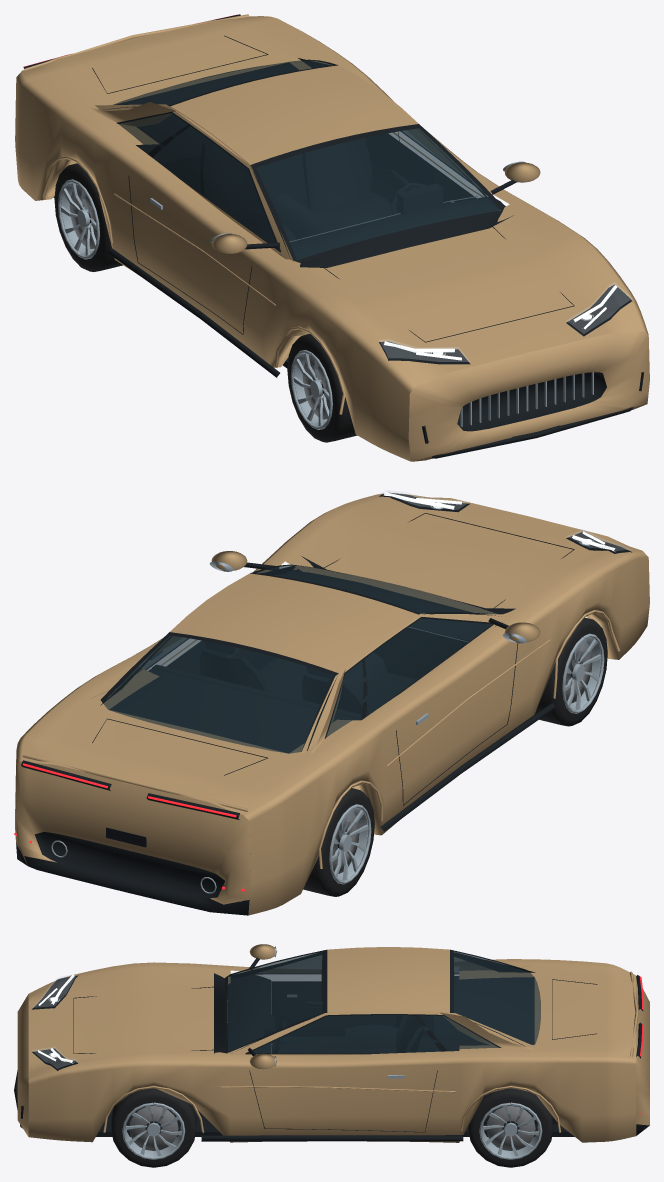
File: nova-lod1.glb
3 renders of one model, top to bottom at view 1: azimuth 30°, elevation 25°; view 2: azimuth 150°, elevation 25°; view 3: azimuth 270°, elevation 25°, orthographic. The views are drawn at different scales.
Parts seen in each view (by area): view 1: sculpted-coachwork_merged, carbon-rear-valance_merged, panoramic-windscreen_merged, profiled-tire (×2), rim-barrel_merged (×2), headlamp-clear-lens_merged, door-release_merged, headlamp-projector-optic_merged; view 2: sculpted-coachwork_merged, carbon-rear-valance_merged, panoramic-windscreen_merged, profiled-tire (×2), rim-barrel_merged (×2), ventilated-brake-rotor (×2), headlamp-clear-lens_merged, headlamp-projector-optic_merged, door-release_merged; view 3: sculpted-coachwork_merged, carbon-rear-valance_merged, panoramic-windscreen_merged, profiled-tire (×2), rim-barrel_merged (×2), ventilated-brake-rotor (×2), headlamp-clear-lens_merged, headlamp-projector-optic_merged.
Part boxes in pixels (x1,y1,x2,y2): sculpted-coachwork_merged: [15, 14, 649, 461]; carbon-rear-valance_merged: [23, 14, 644, 458]; panoramic-windscreen_merged: [113, 60, 500, 259]; profiled-tire (×2): [54, 163, 357, 442]; rim-barrel_merged (×2): [58, 179, 332, 429]; headlamp-clear-lens_merged: [379, 282, 631, 361]; door-release_merged: [150, 161, 594, 426]; headlamp-projector-optic_merged: [384, 285, 617, 360]; sculpted-coachwork_merged: [15, 493, 649, 915]; carbon-rear-valance_merged: [16, 492, 631, 915]; panoramic-windscreen_merged: [103, 565, 497, 753]; profiled-tire (×2): [303, 617, 607, 896]; rim-barrel_merged (×2): [329, 633, 604, 884]; ventilated-brake-rotor (×2): [332, 641, 592, 873]; headlamp-clear-lens_merged: [380, 490, 631, 550]; headlamp-projector-optic_merged: [383, 492, 615, 551]; door-release_merged: [51, 502, 594, 893]; sculpted-coachwork_merged: [17, 944, 649, 1142]; carbon-rear-valance_merged: [14, 949, 649, 1141]; panoramic-windscreen_merged: [227, 951, 540, 1053]; profiled-tire (×2): [111, 1088, 553, 1167]; rim-barrel_merged (×2): [122, 1102, 542, 1159]; ventilated-brake-rotor (×2): [129, 1105, 535, 1150]; headlamp-clear-lens_merged: [32, 974, 77, 1068]; headlamp-projector-optic_merged: [37, 974, 74, 1063].
Size of the model in its own units: 2.29 by 1.26 by 5.08.
